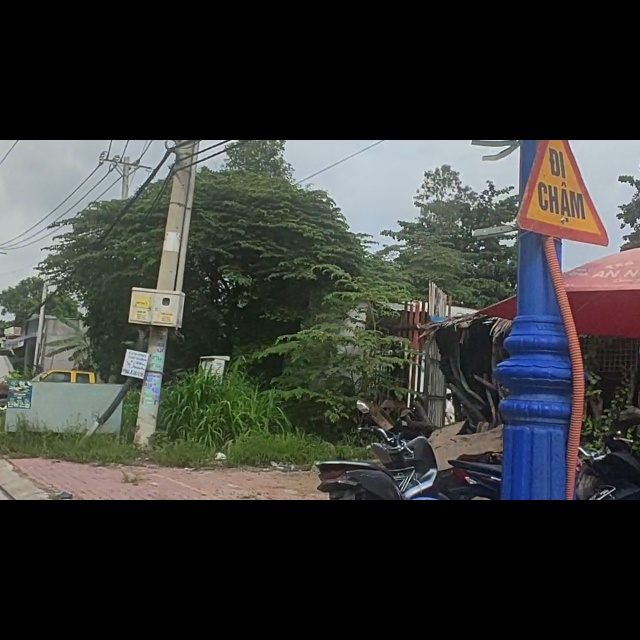bien_nguy_hiem: (512, 14, 615, 193)
